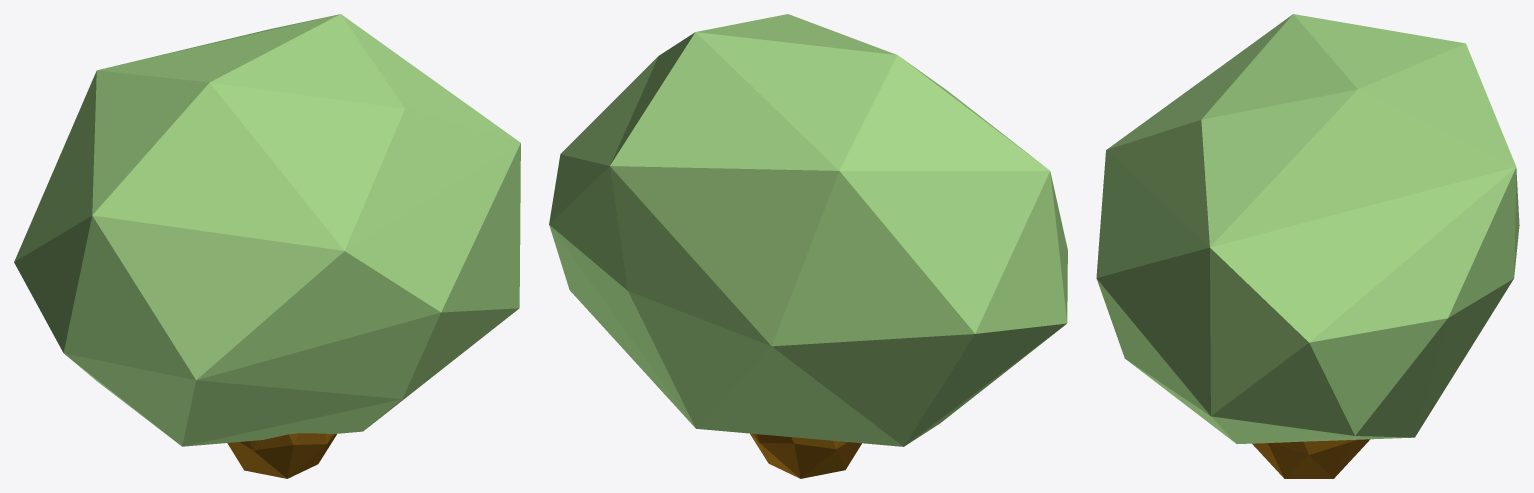
Rendered from bush.dae.
3 renders of one model, left to right at view 1: azimuth 30°, elevation 25°; view 2: azimuth 150°, elevation 25°; view 3: azimuth 270°, elevation 25°, orthographic. The views are drawn at different scales.
Parts seen in each view (by area): view 1: Icosphere, Icosphere_001; view 2: Icosphere, Icosphere_001; view 3: Icosphere, Icosphere_001.
Boxes of the visible parts, x1,y1,x2,y2 form: Icosphere: (14,14,520,446); Icosphere_001: (227,433,336,478); Icosphere: (549,14,1067,446); Icosphere_001: (750,433,861,478); Icosphere: (1096,14,1519,444); Icosphere_001: (1252,439,1369,478).
Size of the model in its own units: 2.68 by 2.04 by 2.23.
